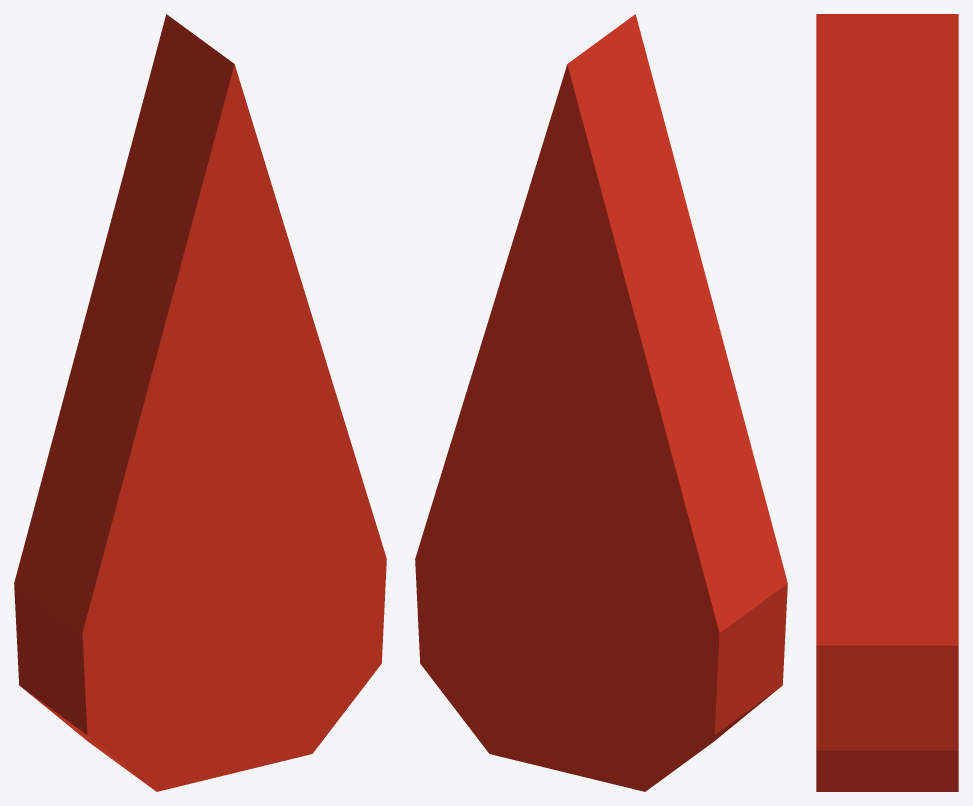
Rendered from Icon_Drop.fbx.
3 renders of one model, left to right at view 1: azimuth 30°, elevation 25°; view 2: azimuth 150°, elevation 25°; view 3: azimuth 270°, elevation 25°, orthographic. The views are drawn at different scales.
Visible parts, largest first — view 1: Icon_Drop; view 2: Icon_Drop; view 3: Icon_Drop.
Boxes of the visible parts, <box> form: Icon_Drop: <box>14,14,386,791</box>; Icon_Drop: <box>415,14,787,791</box>; Icon_Drop: <box>816,14,958,791</box>.
Size of the model in its own units: 31.04 by 69.09 by 12.06.
